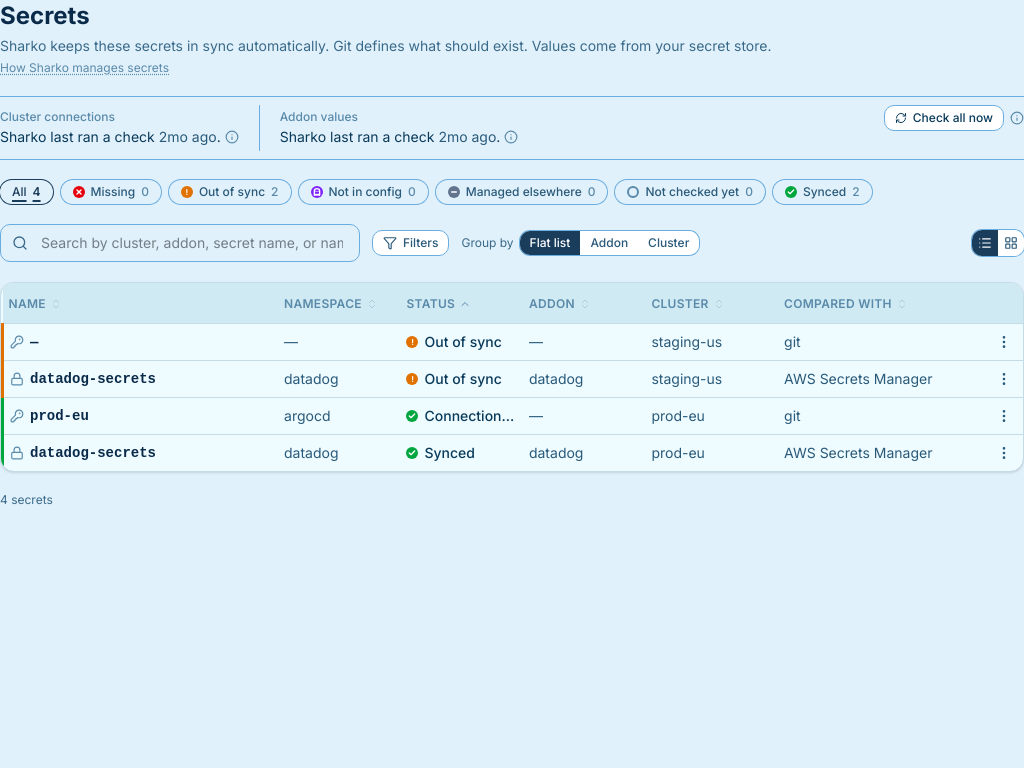
Test case: ManagedSecrets › filters the table with the Addon and Source selects behind the Filters popover
Check: the button with test id "secret-row-connection-prod-eu" is shown, box [2,397,1023,434]
Click the button with test id "filters-button" at x=411, y=243, box [372,230,449,256]
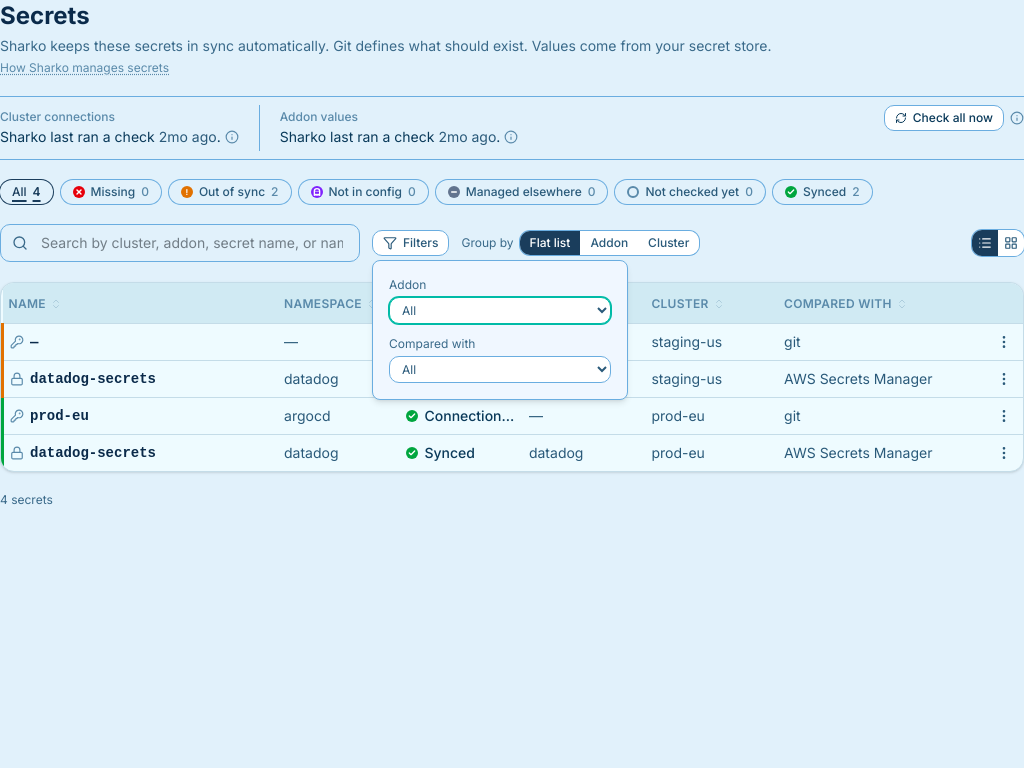
Check: the dropdown with test id "addon-filter-select" is shown
Select "datadog" in the dropdown with test id "addon-filter-select" at x=500, y=310, box [389,297,611,324]
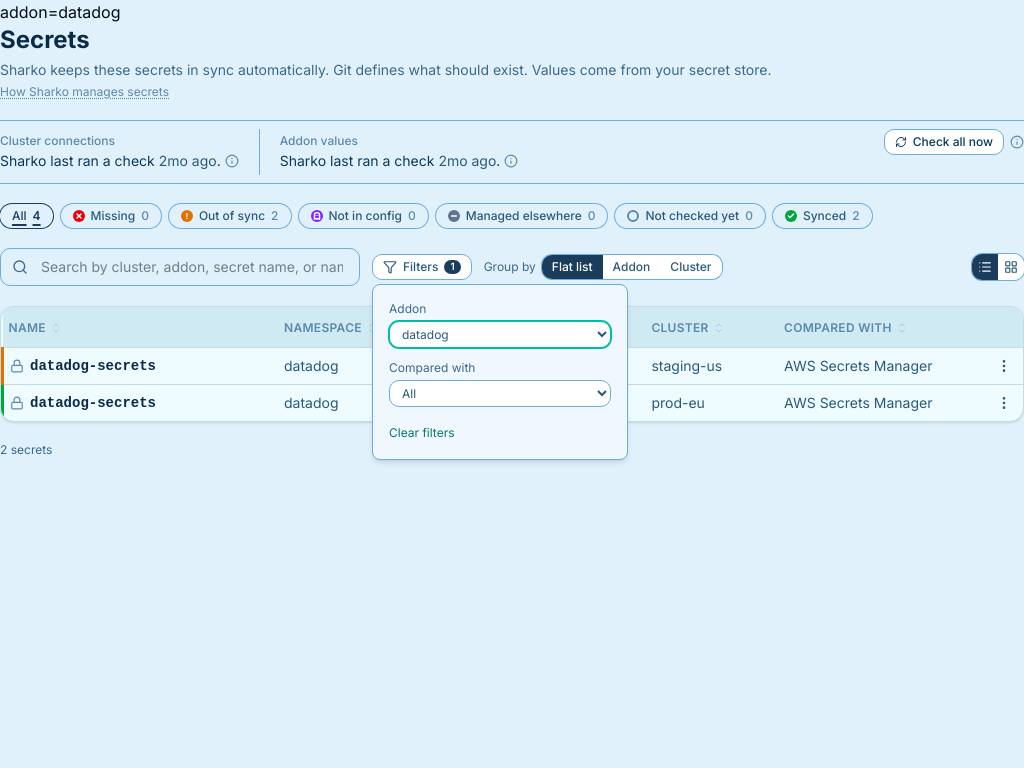
Check: the button with test id "secret-row-values-prod-eu-datadog" is shown, box [2,384,1023,420]
Check: the button with test id "secret-row-connection-prod-eu" is gone
Select "All" in the dropdown with test id "addon-filter-select" at x=500, y=334, box [389,321,611,348]
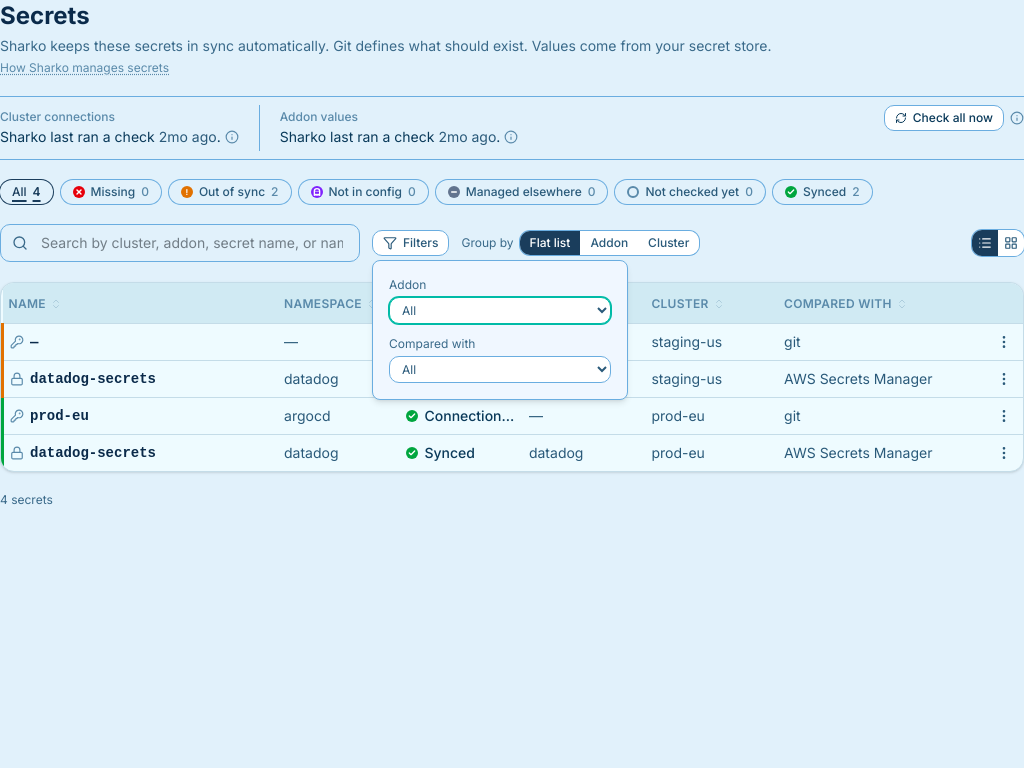
Select "git" in the dropdown with test id "source-filter-select" at x=500, y=370, box [389,356,611,383]
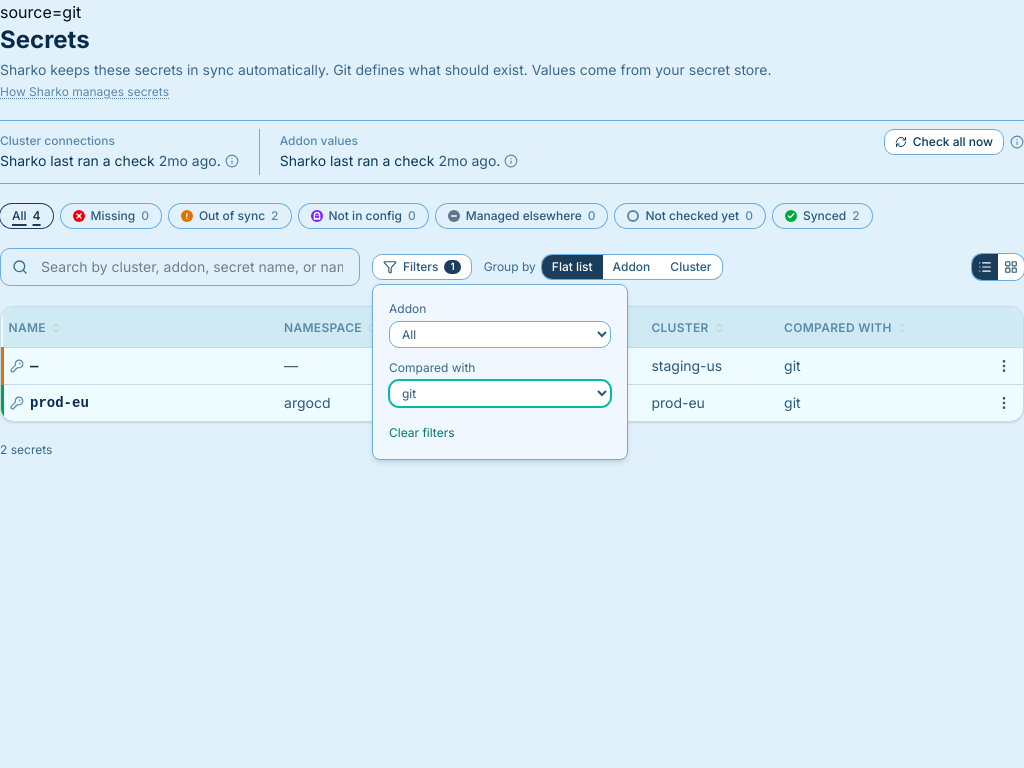
Check: the button with test id "secret-row-connection-prod-eu" is shown, box [2,384,1023,420]
Check: the button with test id "secret-row-values-prod-eu-datadog" is gone
